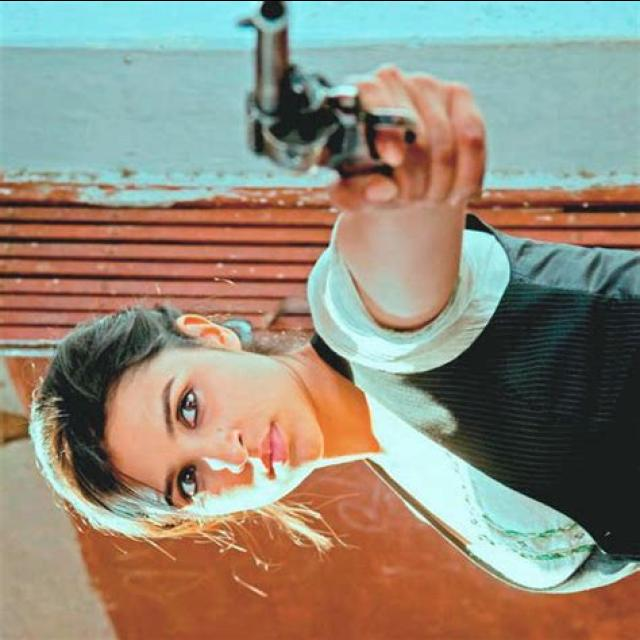weapons: (225, 2, 459, 214)
